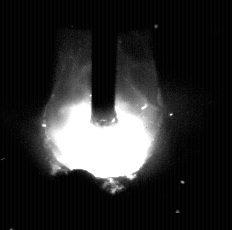arame: (93, 0, 117, 126)
poca: (43, 0, 161, 230)
